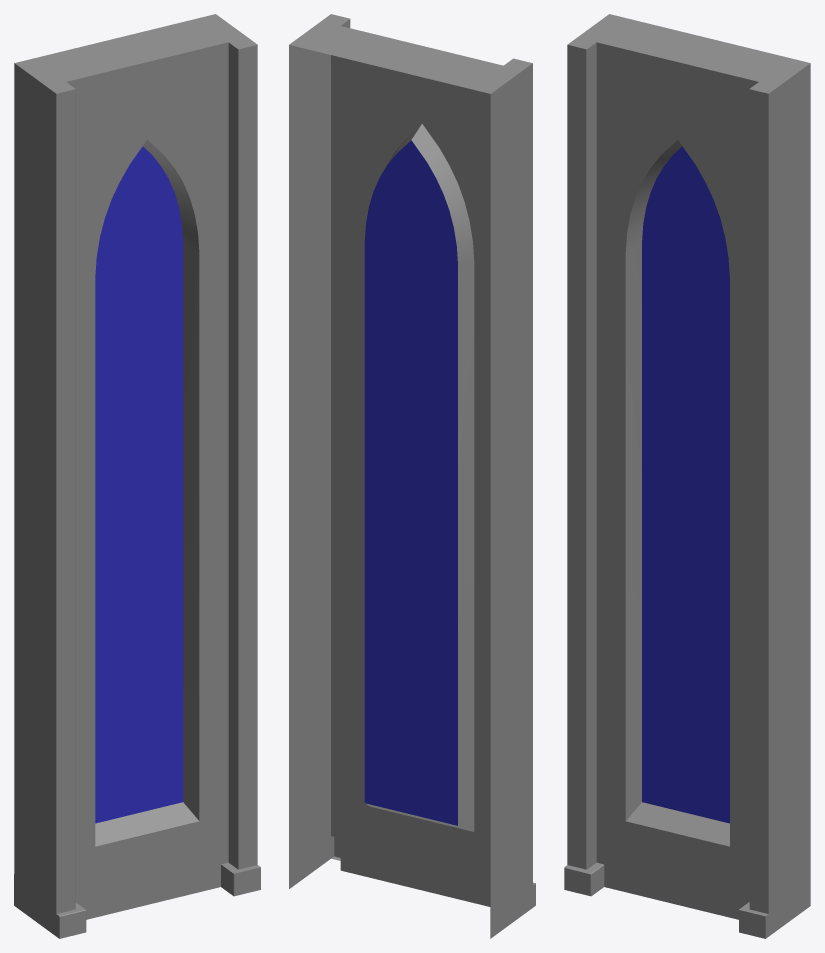
The model's file is Vitral_alto.FBX.
The picture shows the model from 3 angles, left to right: view 1: azimuth 30°, elevation 25°; view 2: azimuth 150°, elevation 25°; view 3: azimuth 330°, elevation 25°; orthographic projection.
Parts seen in each view (by area): view 1: Vitral_1x4_Pequeno012; view 2: Vitral_1x4_Pequeno012; view 3: Vitral_1x4_Pequeno012.
Boxes of the visible parts, x1=… form: Vitral_1x4_Pequeno012: x1=14, y1=14, x2=260, y2=938; Vitral_1x4_Pequeno012: x1=289, y1=14, x2=535, y2=938; Vitral_1x4_Pequeno012: x1=564, y1=14, x2=810, y2=938.
Bounding box in the file's own units: 10 × 40 × 3.91.
